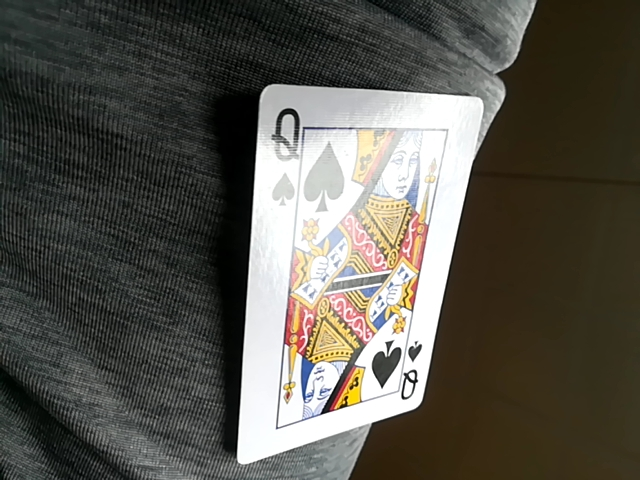ht q: (239, 79, 485, 463)
